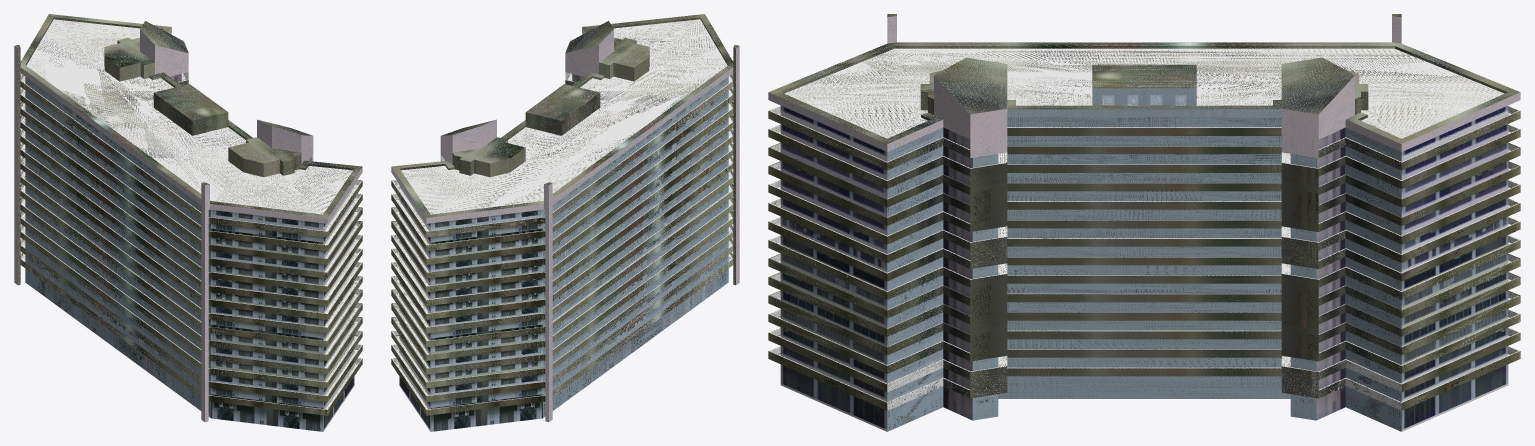
Rendered from CBD4.fbx.
3 renders of one model, left to right at view 1: azimuth 30°, elevation 25°; view 2: azimuth 150°, elevation 25°; view 3: azimuth 270°, elevation 25°, orthographic. The views are drawn at different scales.
Visible parts, largest first — view 1: Group1; view 2: Group1; view 3: Group1.
Part boxes in pixels (x1,y1,x2,y2): Group1: [14, 14, 362, 431]; Group1: [391, 14, 739, 431]; Group1: [768, 14, 1520, 431].
Size of the model in its own units: 1659 by 2530 by 5081.
